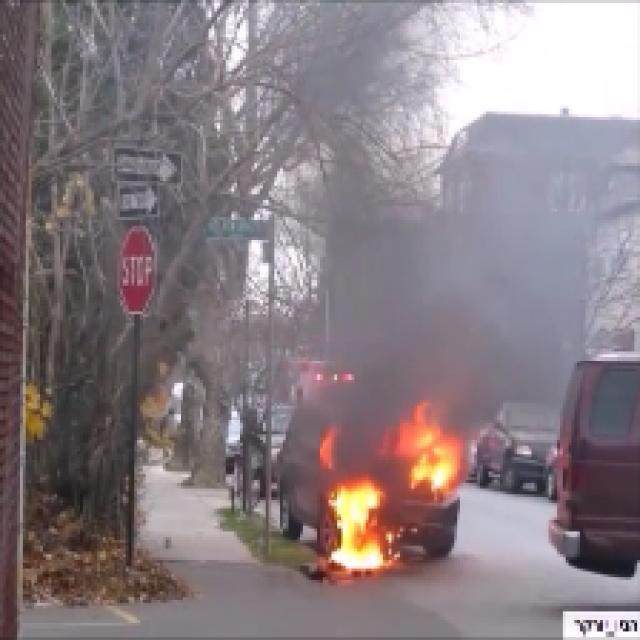Fire: (326, 420, 474, 578)
Smoke: (355, 216, 567, 420)
